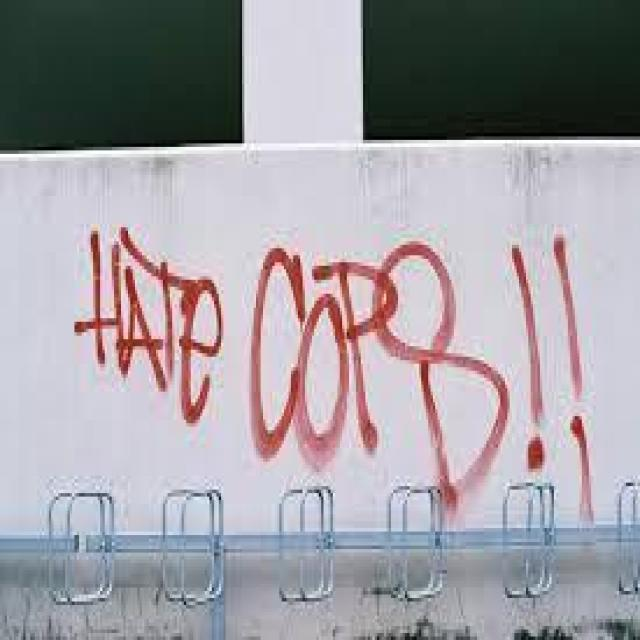nonspitting: (76, 227, 596, 517)
